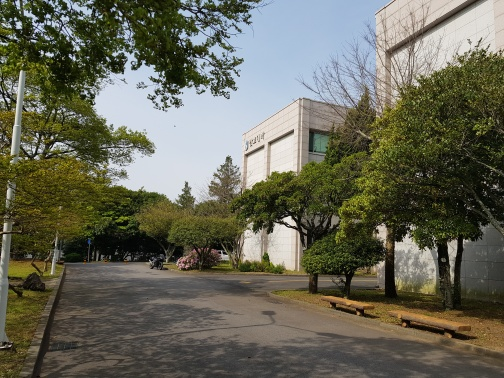College of Nursing: (237, 90, 331, 259)
